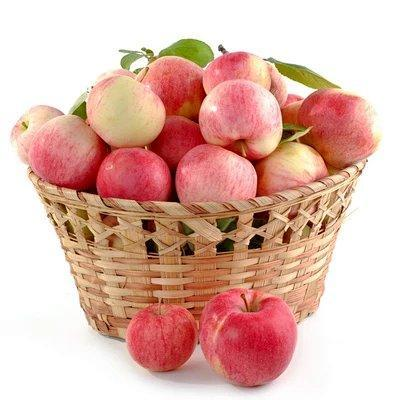apple: (198, 287, 297, 387), (297, 89, 380, 171), (198, 80, 283, 159), (84, 74, 165, 148), (27, 115, 101, 187), (124, 303, 196, 374), (174, 144, 259, 203), (257, 139, 328, 198), (95, 146, 170, 200), (202, 45, 273, 95), (11, 103, 61, 164)
